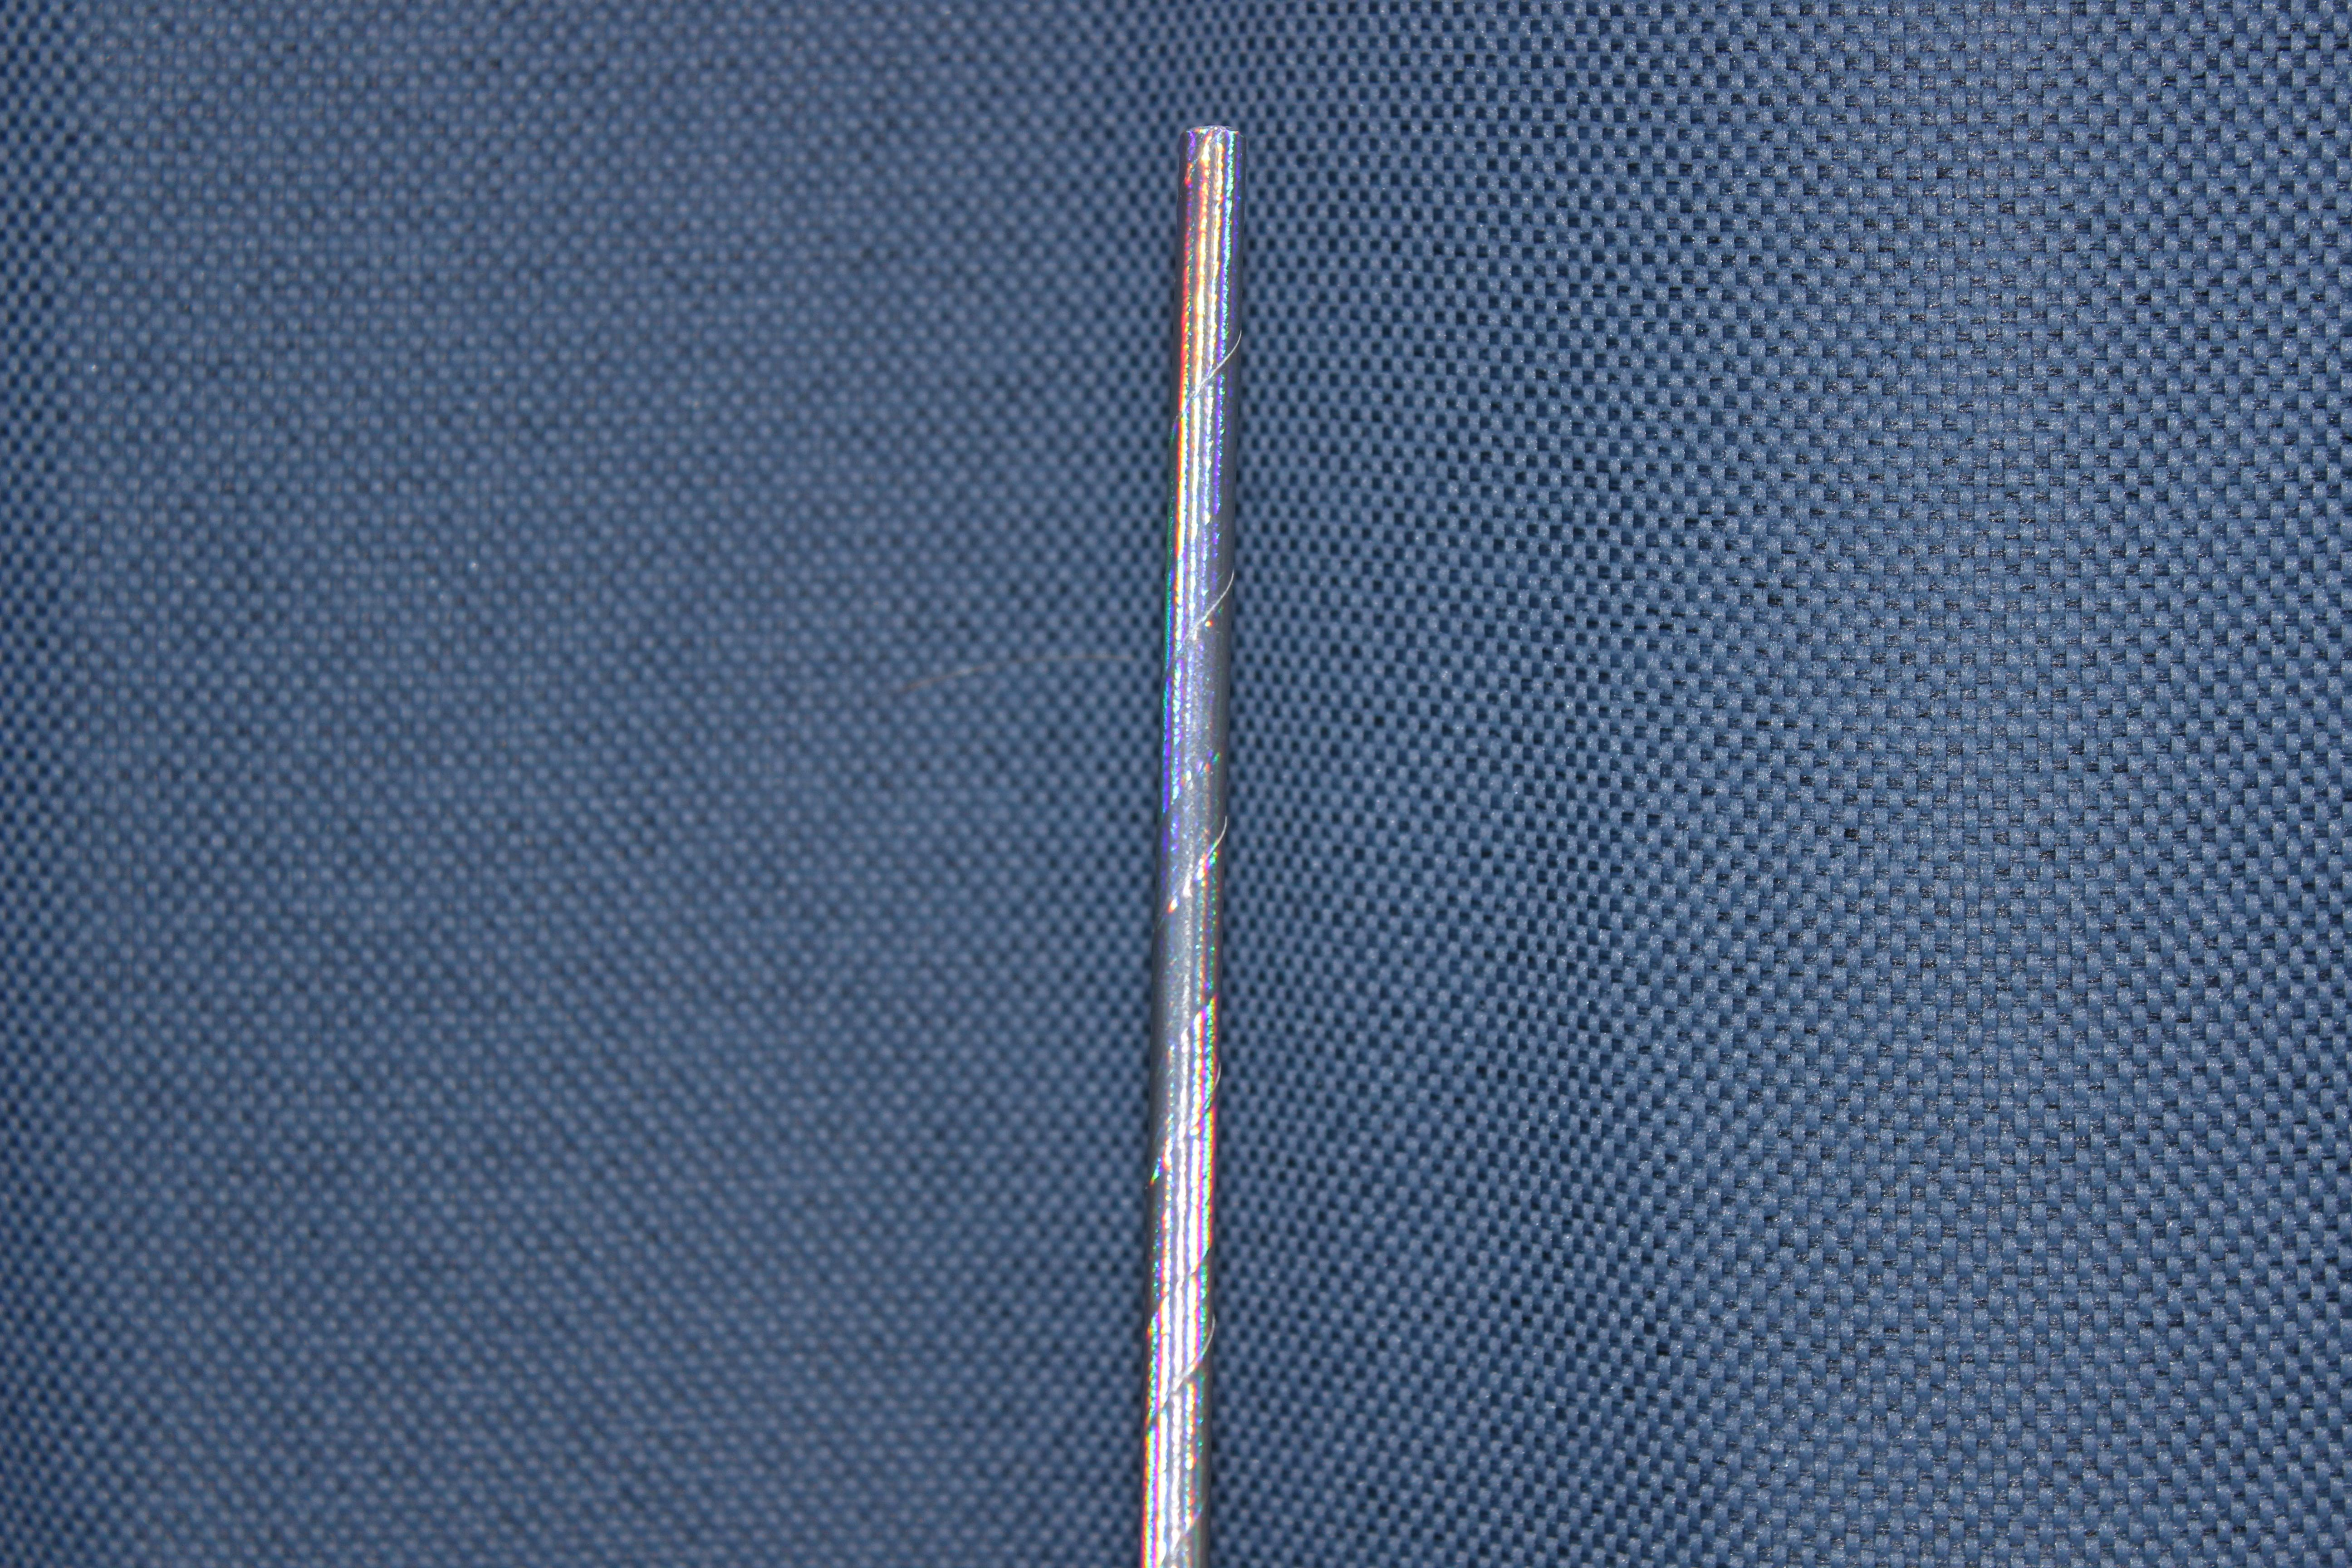silverStraw: (1085, 98, 1305, 1568)
